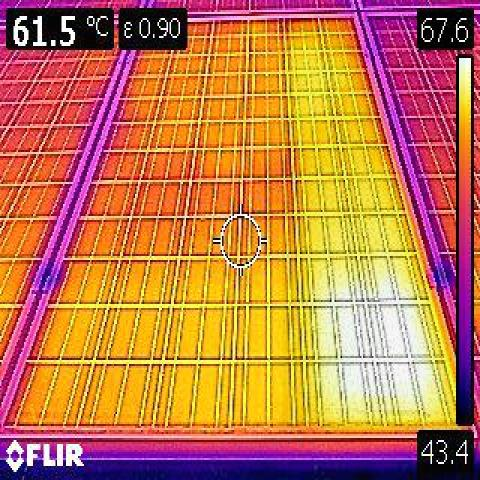fault: (282, 12, 465, 434)
